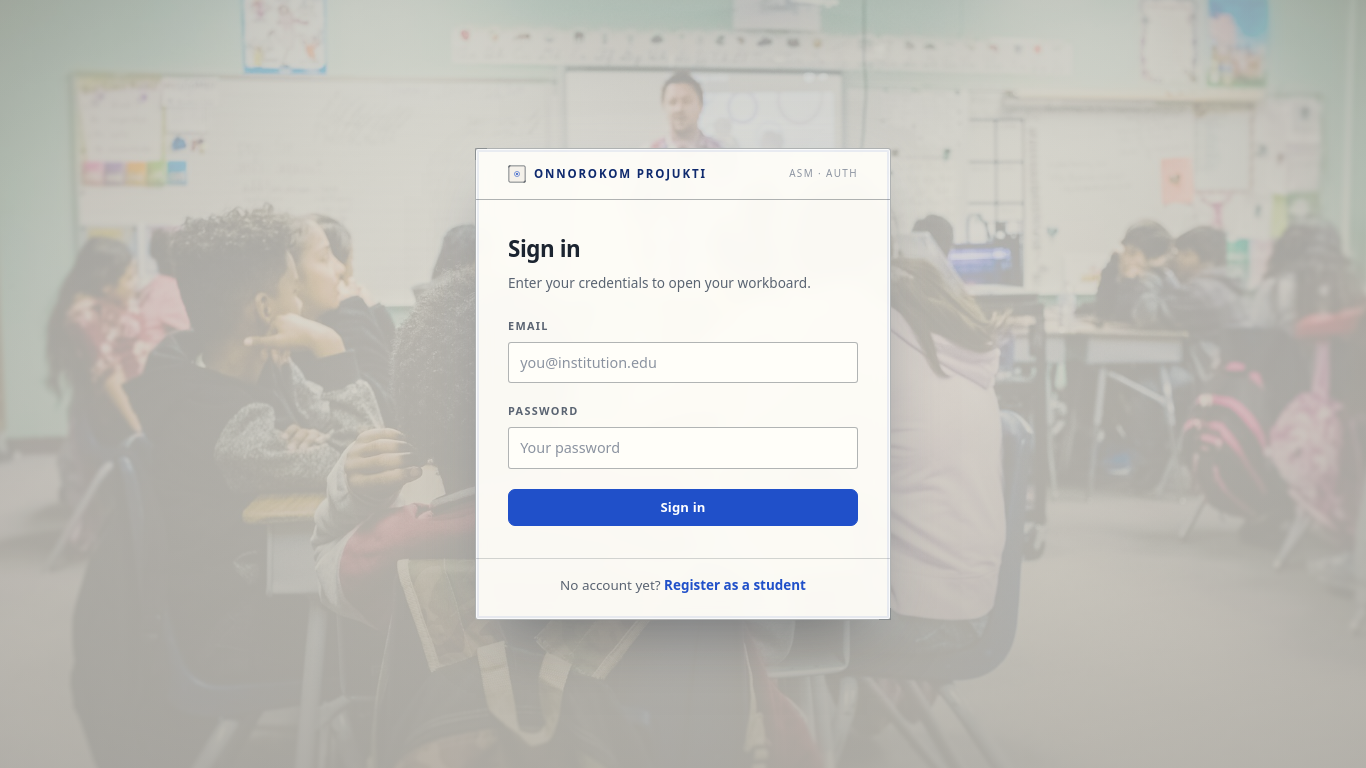
Test case: LoginPage › shows validation errors for invalid email and missing password
Type "not-an-email" into the field labelled "Email".
click(683, 362); type("not-an-email")  # box [508,342,858,383]
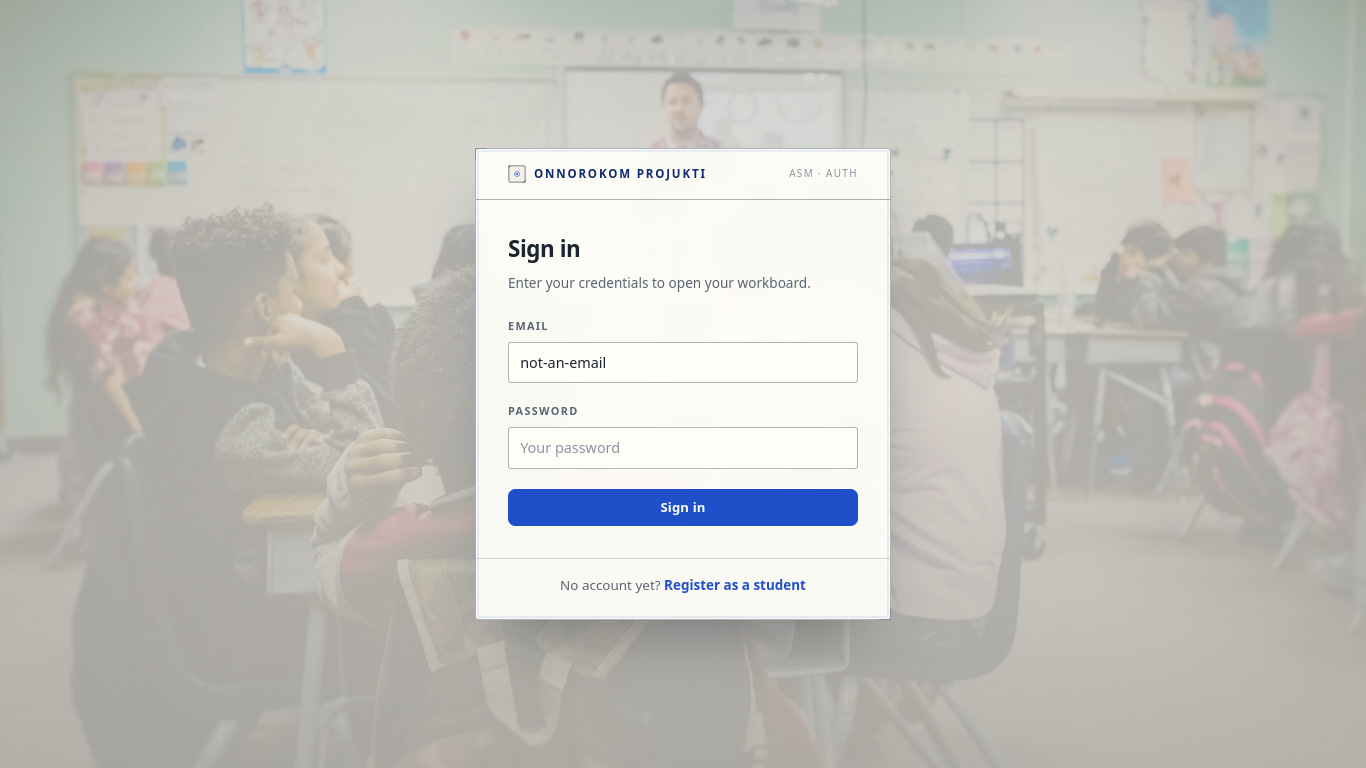
Click the button "Sign in".
click(683, 507)  # box [508,489,858,526]
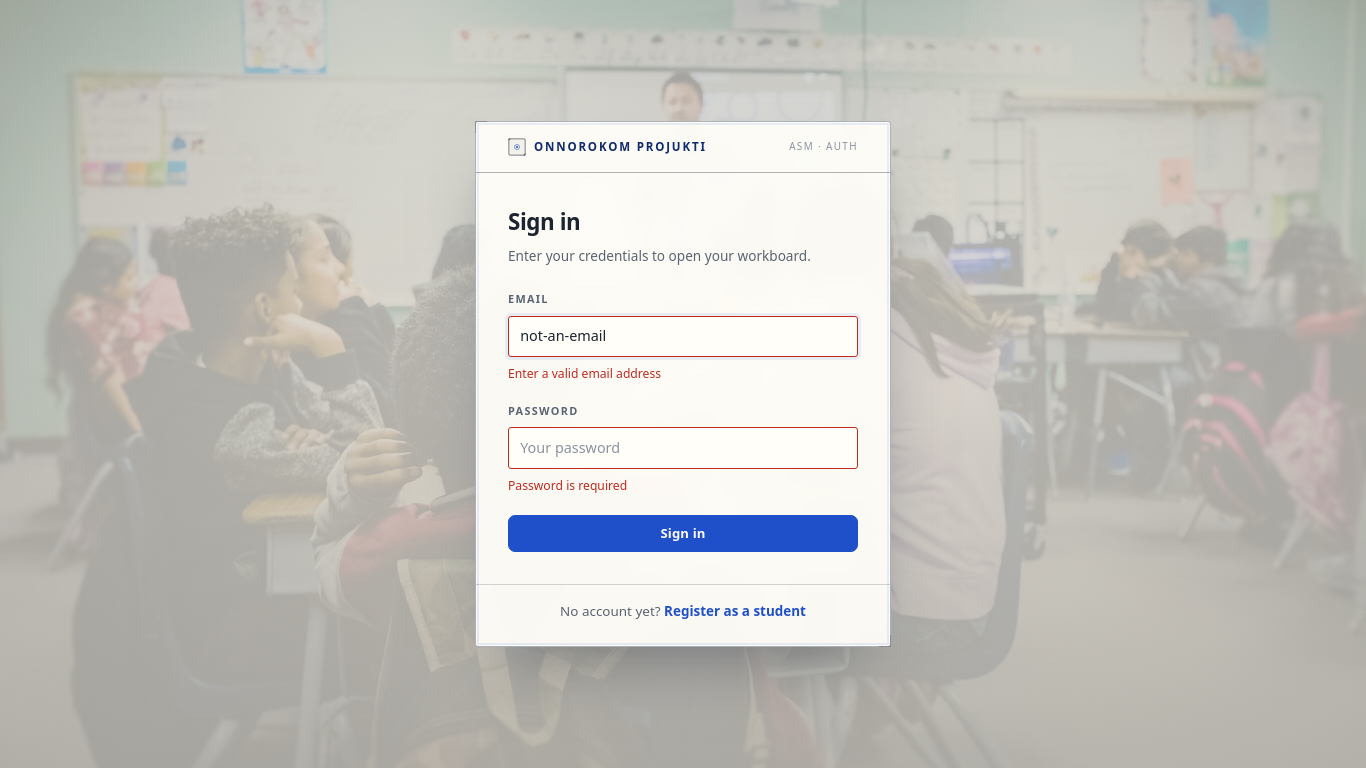
Check: the text "Enter a valid email address" is shown, box [508,365,661,382]
Check: the text "Password is required" is shown, box [508,477,627,494]
